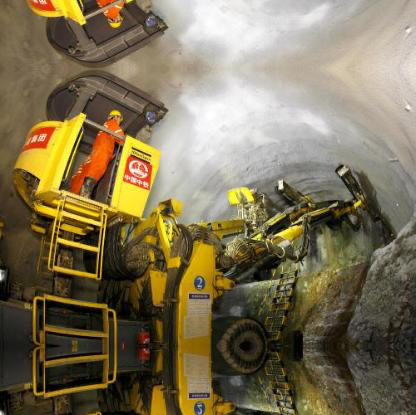helmet: (106, 108, 124, 127), (106, 12, 124, 31)
